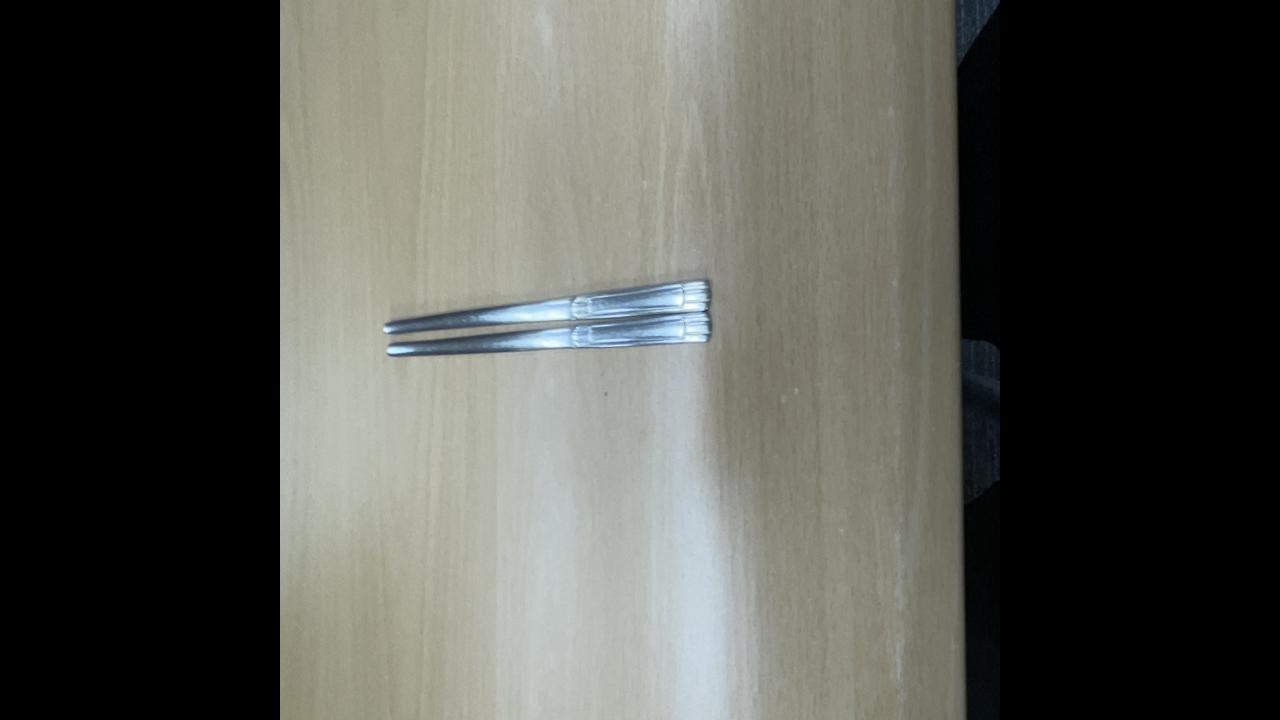chopstick: (381, 274, 712, 367)
